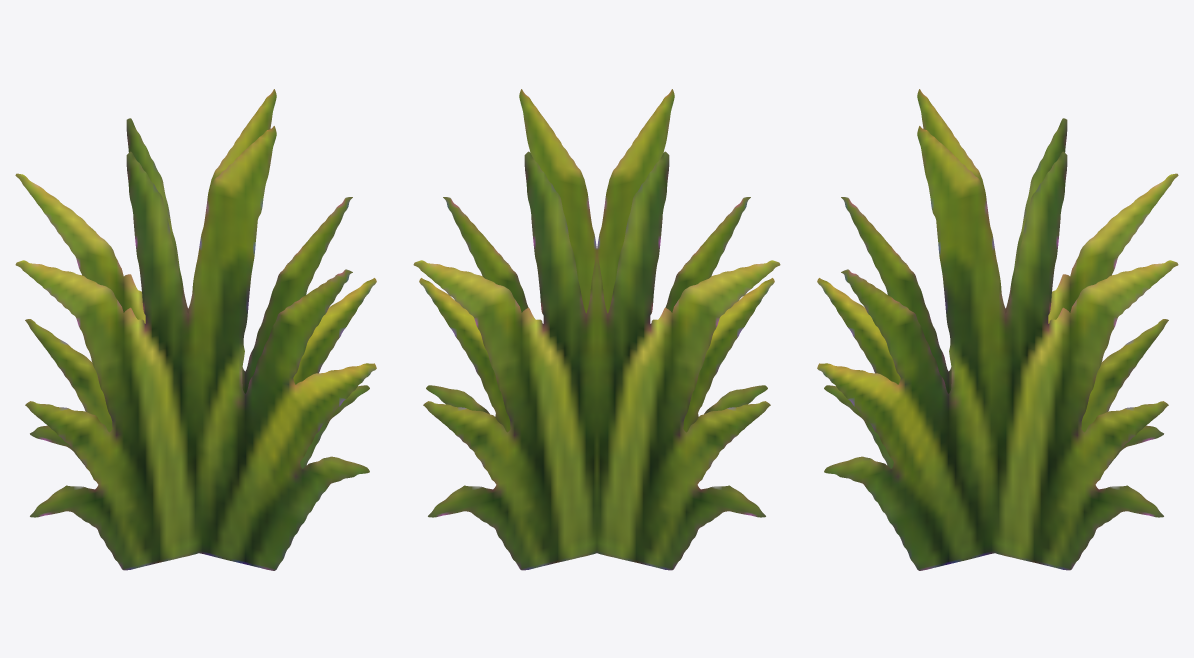
File: h_racines_touffe.glb
3 views of the same model, side by side, from view 1: azimuth 30°, elevation 25°; view 2: azimuth 150°, elevation 25°; view 3: azimuth 270°, elevation 25° (orthographic).
Parts seen in each view (by area): view 1: h_racines_touffe; view 2: h_racines_touffe; view 3: h_racines_touffe.
Part boxes in pixels (left/top/right/bottom): h_racines_touffe: left=15, top=89, right=376, bottom=570; h_racines_touffe: left=413, top=89, right=780, bottom=570; h_racines_touffe: left=817, top=89, right=1178, bottom=570.
Bounding box in the file's own units: 0.2747 × 0.32 × 0.2379.
1 material, 1 textured.
